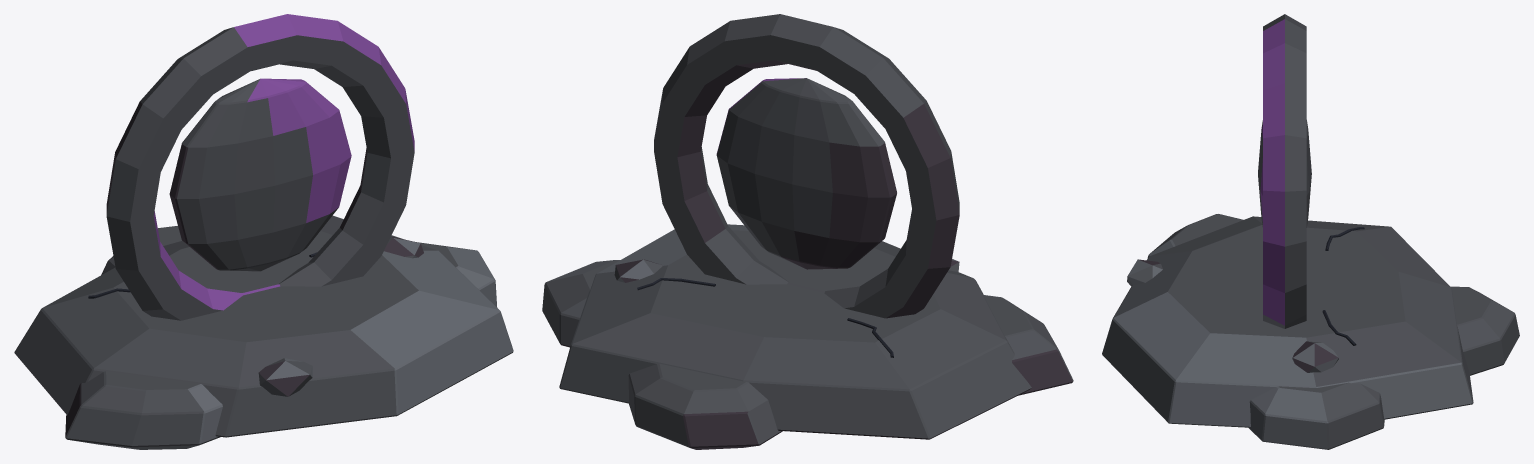
File: BH_ORE_O11_Eclipse_Enjaulado_V02.glb
3 renders of one model, left to right at view 1: azimuth 30°, elevation 25°; view 2: azimuth 150°, elevation 25°; view 3: azimuth 270°, elevation 25°, orthographic. The views are drawn at different scales.
Visible parts, largest first — view 1: Bedrock | primary.003, Enclosing stone / obsidian halo.003, Eclipse disk.003, Bedrock | shoulder 1.003, Bedrock | shoulder 2.003, O11 | V02 embedded stone ledge.002, O11 | V02 embedded stone ledge.003, Bedrock | shoulder 3.003; view 2: Bedrock | primary.003, Enclosing stone / obsidian halo.003, Eclipse disk.003, Bedrock | shoulder 3.003, Bedrock | shoulder 1.003, Bedrock | shoulder 2.003, O11 | V02 embedded stone ledge.003; view 3: Bedrock | primary.003, Enclosing stone / obsidian halo.003, Bedrock | shoulder 2.003, Bedrock | shoulder 3.003, Bedrock | shoulder 1.003, O11 | V02 embedded stone ledge.003, Eclipse disk.003, O11 | V02 embedded stone ledge.002.
Part boxes in pixels (box(x1,y1,x2,y2)): Bedrock | primary.003: box(14, 215, 513, 437); Enclosing stone / obsidian halo.003: box(106, 14, 414, 320); Eclipse disk.003: box(169, 78, 351, 271); Bedrock | shoulder 1.003: box(65, 371, 222, 449); Bedrock | shoulder 2.003: box(416, 242, 497, 307); O11 | V02 embedded stone ledge.002: box(258, 358, 312, 396); O11 | V02 embedded stone ledge.003: box(384, 236, 423, 258); Bedrock | shoulder 3.003: box(101, 225, 181, 274); Bedrock | primary.003: box(559, 224, 1031, 439); Enclosing stone / obsidian halo.003: box(654, 14, 959, 318); Eclipse disk.003: box(716, 78, 896, 269); Bedrock | shoulder 3.003: box(628, 363, 782, 449); Bedrock | shoulder 1.003: box(983, 295, 1073, 395); Bedrock | shoulder 2.003: box(542, 260, 619, 347); O11 | V02 embedded stone ledge.003: box(614, 259, 663, 282); Bedrock | primary.003: box(1102, 216, 1473, 427); Enclosing stone / obsidian halo.003: box(1263, 14, 1306, 328); Bedrock | shoulder 2.003: box(1248, 382, 1384, 449); Bedrock | shoulder 3.003: box(1451, 286, 1519, 375); Bedrock | shoulder 1.003: box(1147, 214, 1243, 257); O11 | V02 embedded stone ledge.003: box(1292, 341, 1338, 372); Eclipse disk.003: box(1258, 120, 1311, 227); O11 | V02 embedded stone ledge.002: box(1127, 259, 1162, 286).
Bounding box in the file's own units: 3.07 × 2.17 × 2.53.
